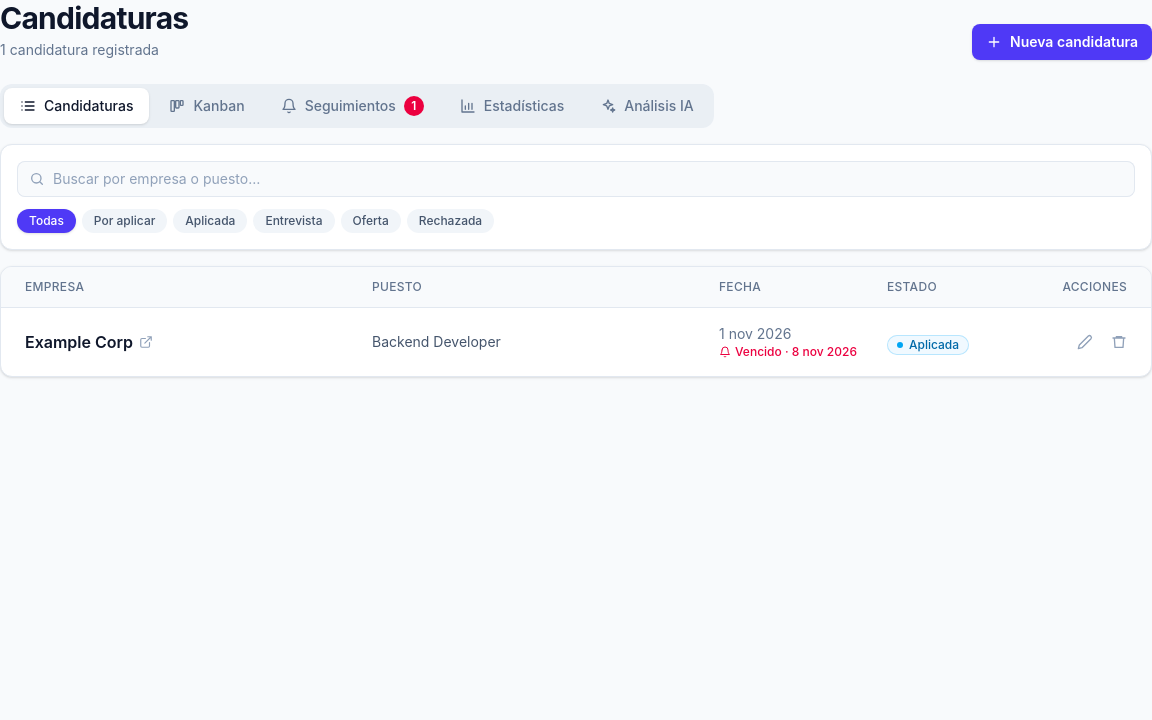
Test: ApplicationsPage › asks for confirmation before deleting and only deletes when confirmed
The image size is (1152, 720).
Click the button named "Eliminar Backend Developer en Example Corp".
click(1119, 342)  # box [1103, 326, 1135, 358]
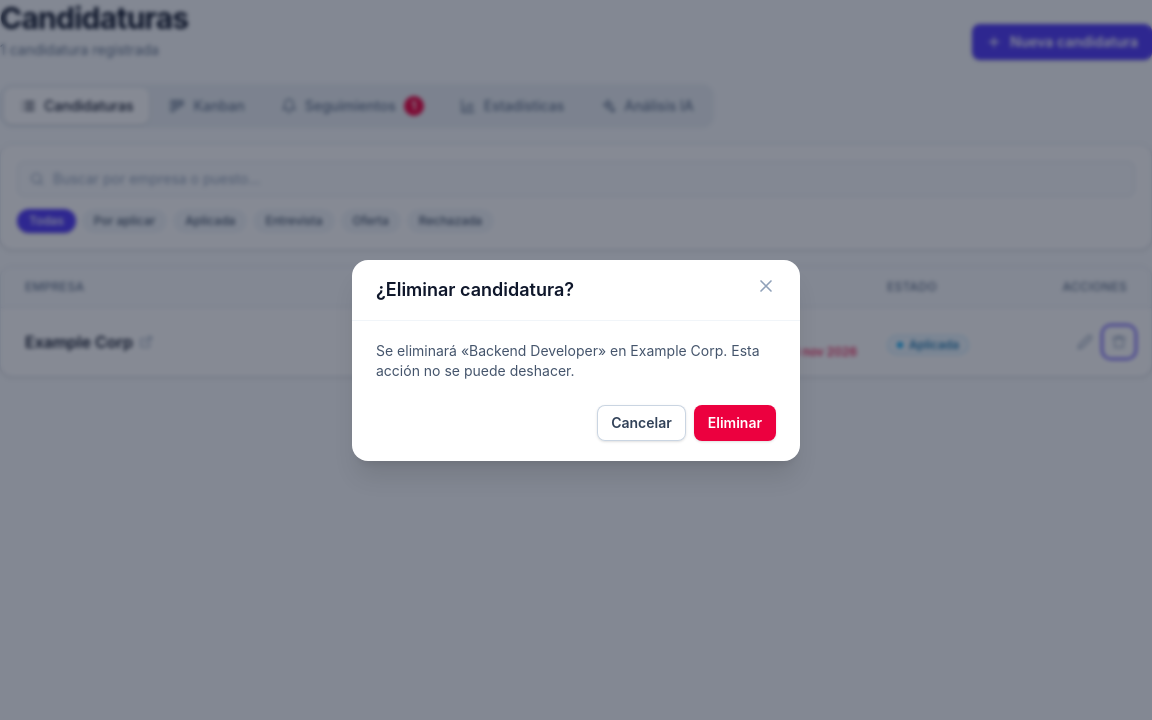
Check: the dialog "¿Eliminar candidatura?" shows "Esta acción no se puede deshacer.", box [376, 342, 760, 378]
Click the button "Cancelar".
click(641, 422)  # box [597, 404, 686, 440]
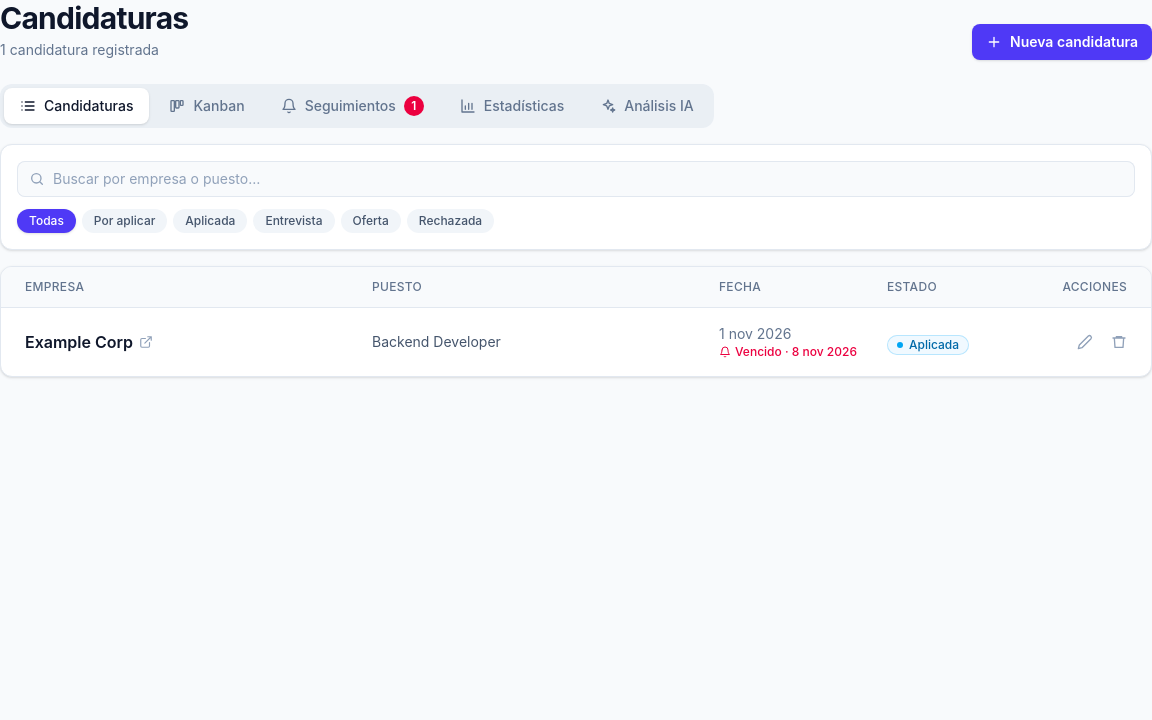
Check: the text "Example Corp" is shown, box [25, 330, 133, 354]
Check: the dialog is gone
Click the button named "Eliminar Backend Developer en Example Corp".
click(1119, 342)  # box [1103, 326, 1135, 358]
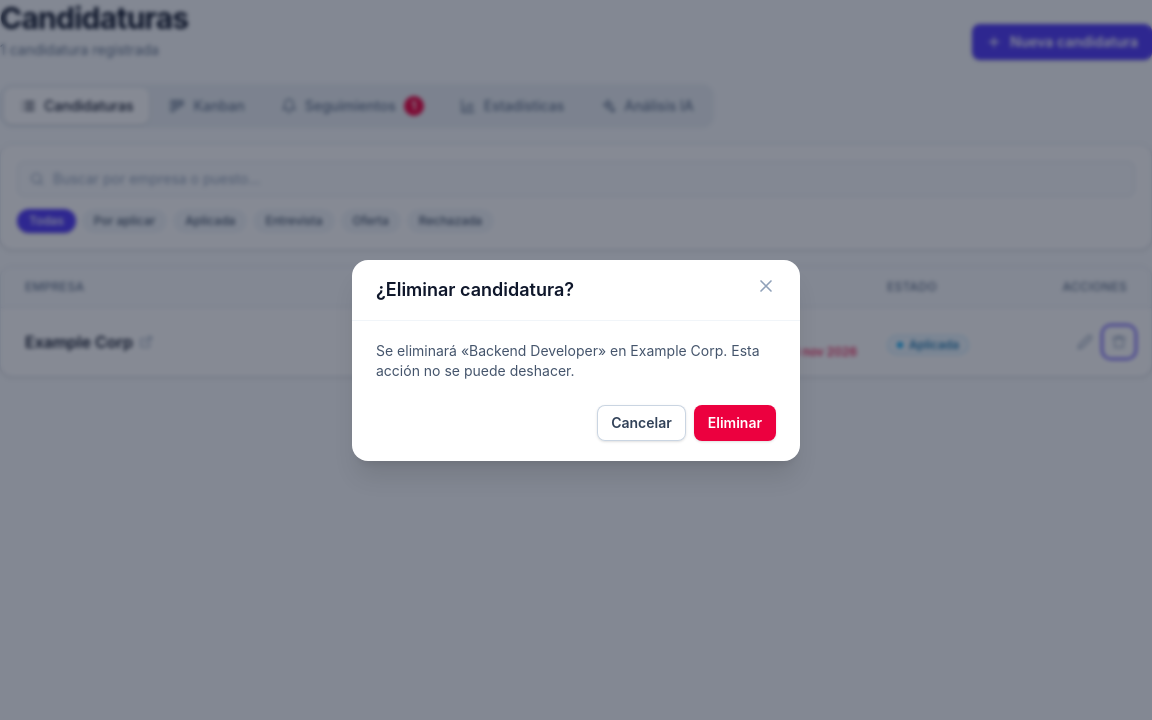
Click the button "Eliminar".
click(735, 422)  # box [694, 404, 776, 440]
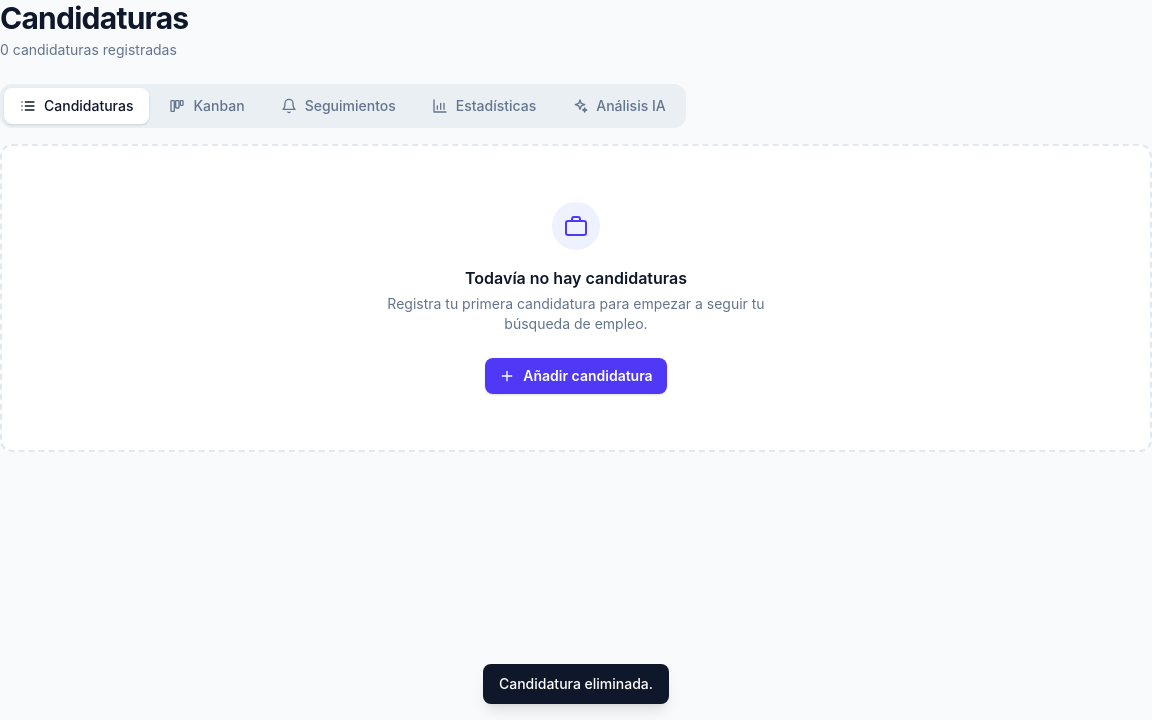
Check: the heading "Todavía no hay candidaturas" is shown, box [465, 266, 687, 290]
